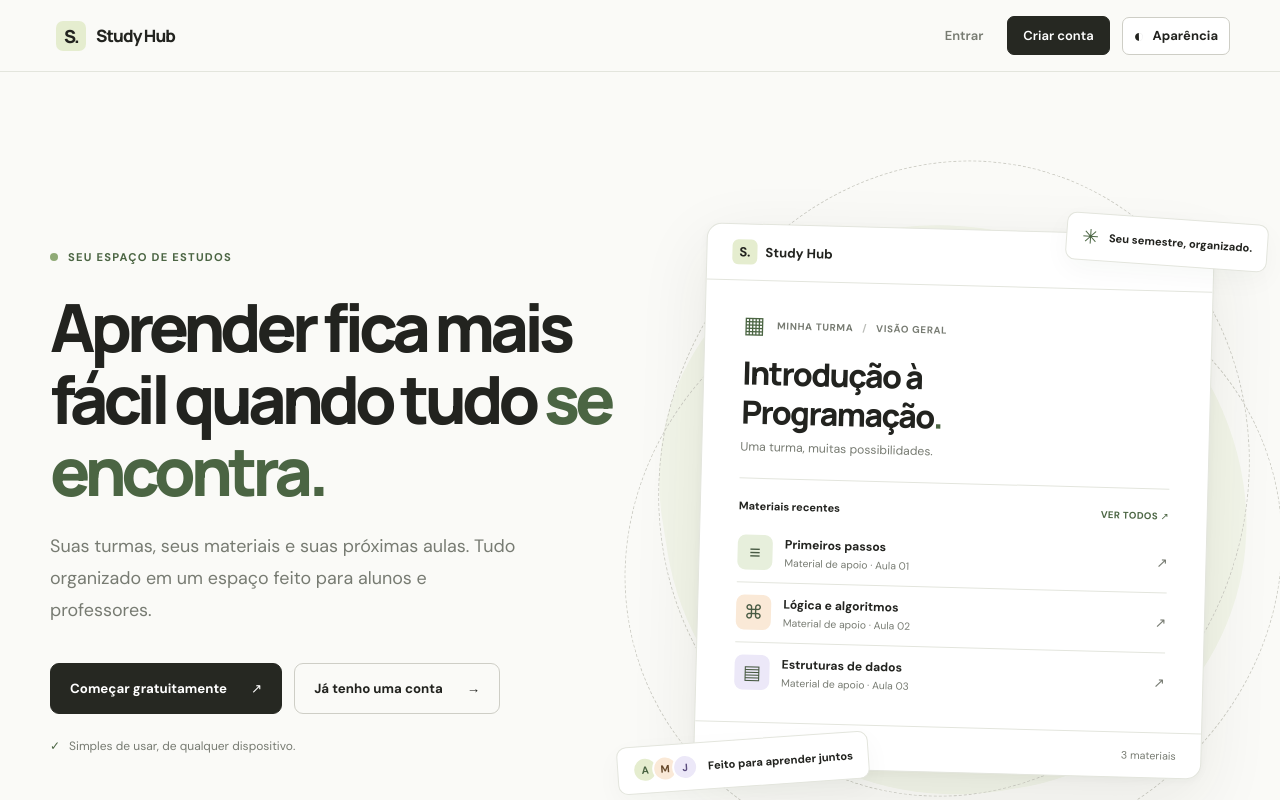
Study Hub › entra, carrega as turmas do aluno e abre uma turma
The image size is (1280, 800).
Click the button with class "outline" at (397, 688), box [294,663,500,714]
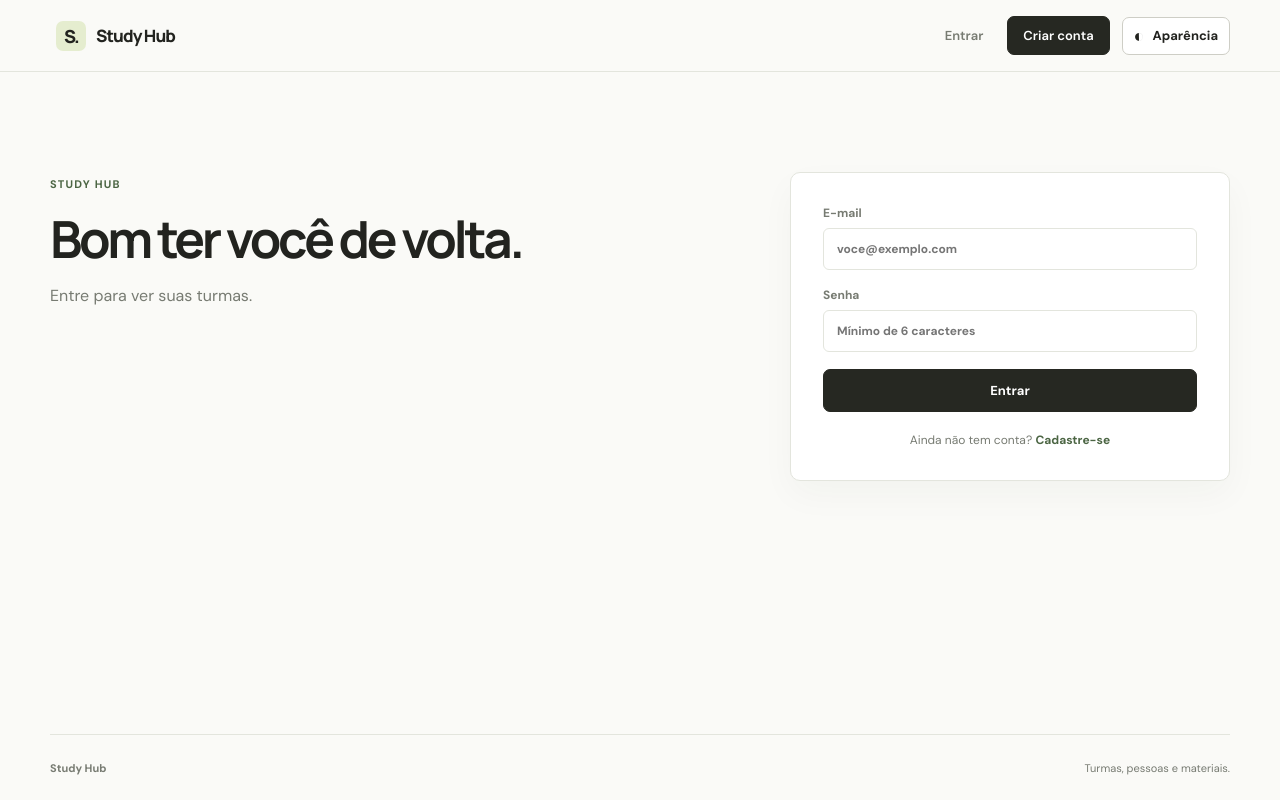
Type "aluno.demo@onlystudent.test" into the field labelled "E-mail" at (1010, 249), box [823,228,1197,270]
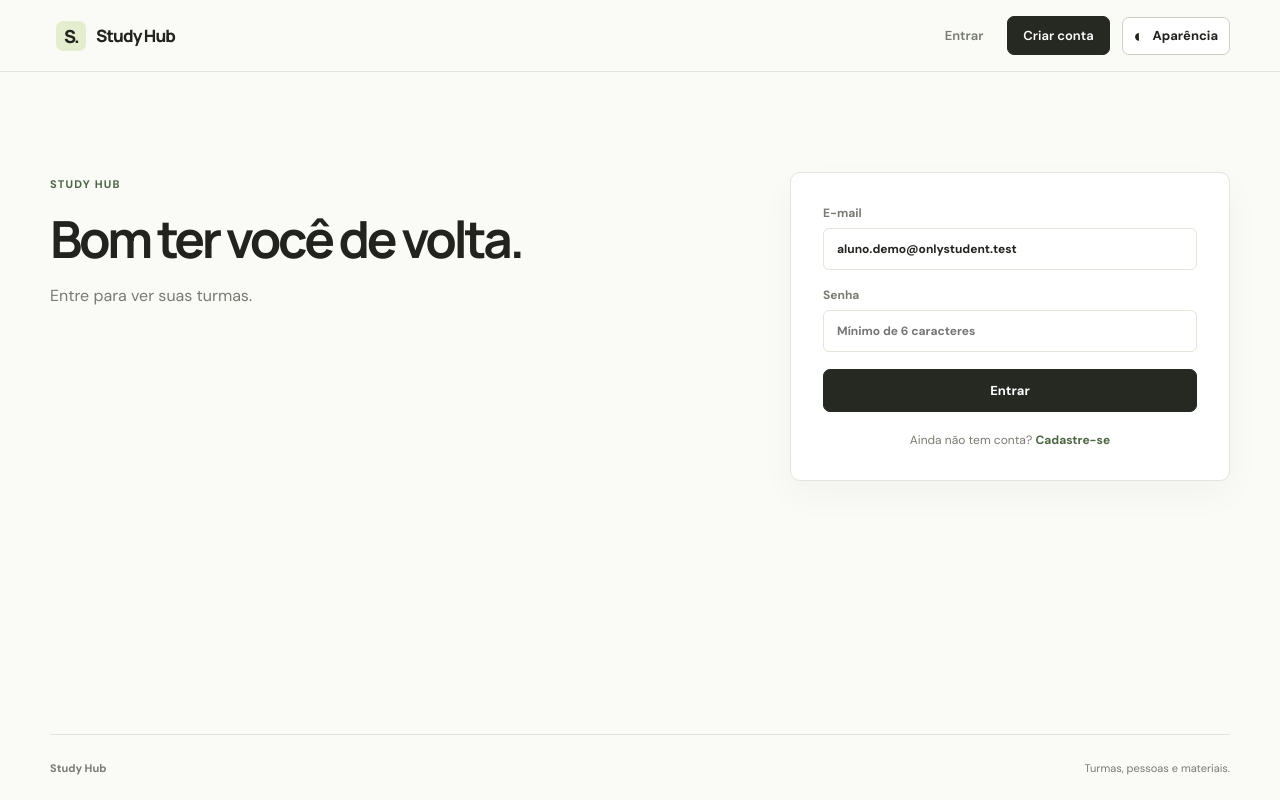
Type "OnlyStudent2026!" into the password field labelled "Senha" at (1010, 331), box [823,310,1197,352]
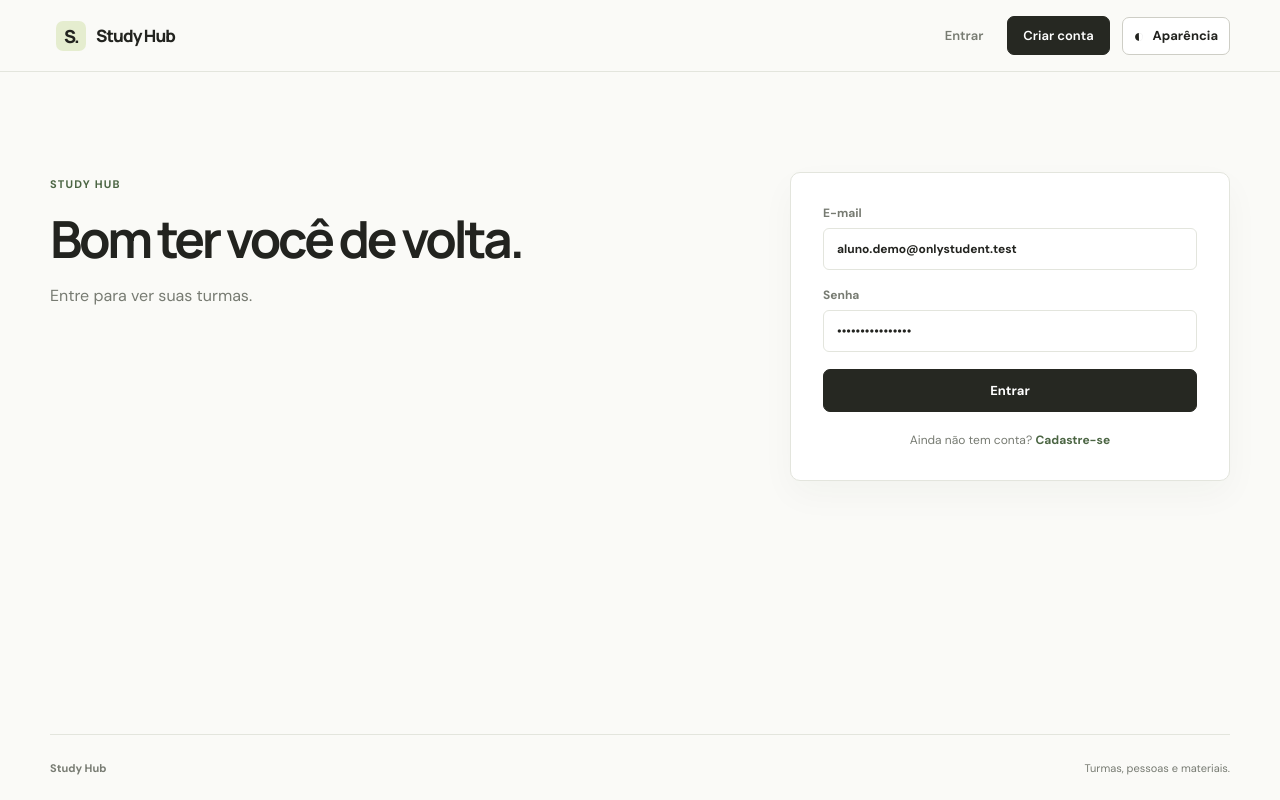
Submit the form, box [790,172,1230,481]
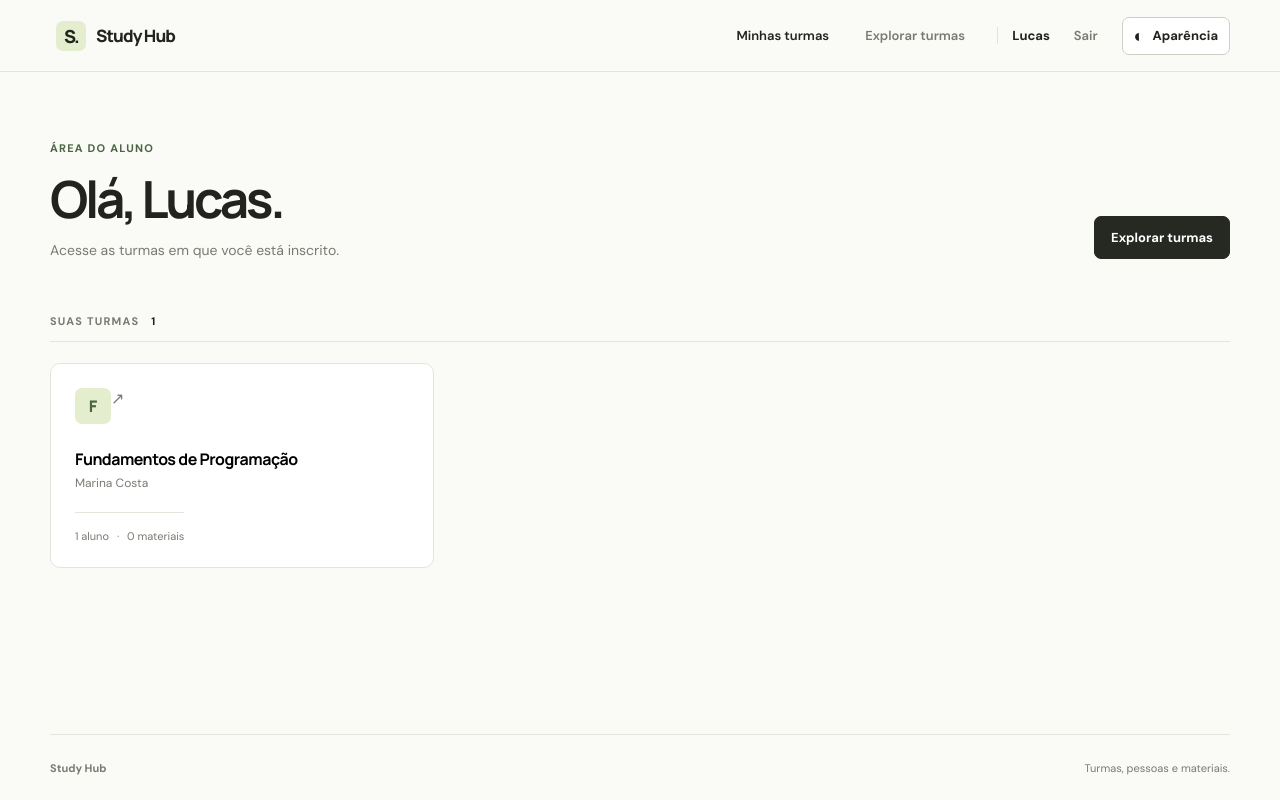
Check: the text "Fundamentos de Programação" is shown, box [75,448,298,470]
Click the button with class "class-card" at (242, 465), box [50,363,434,568]
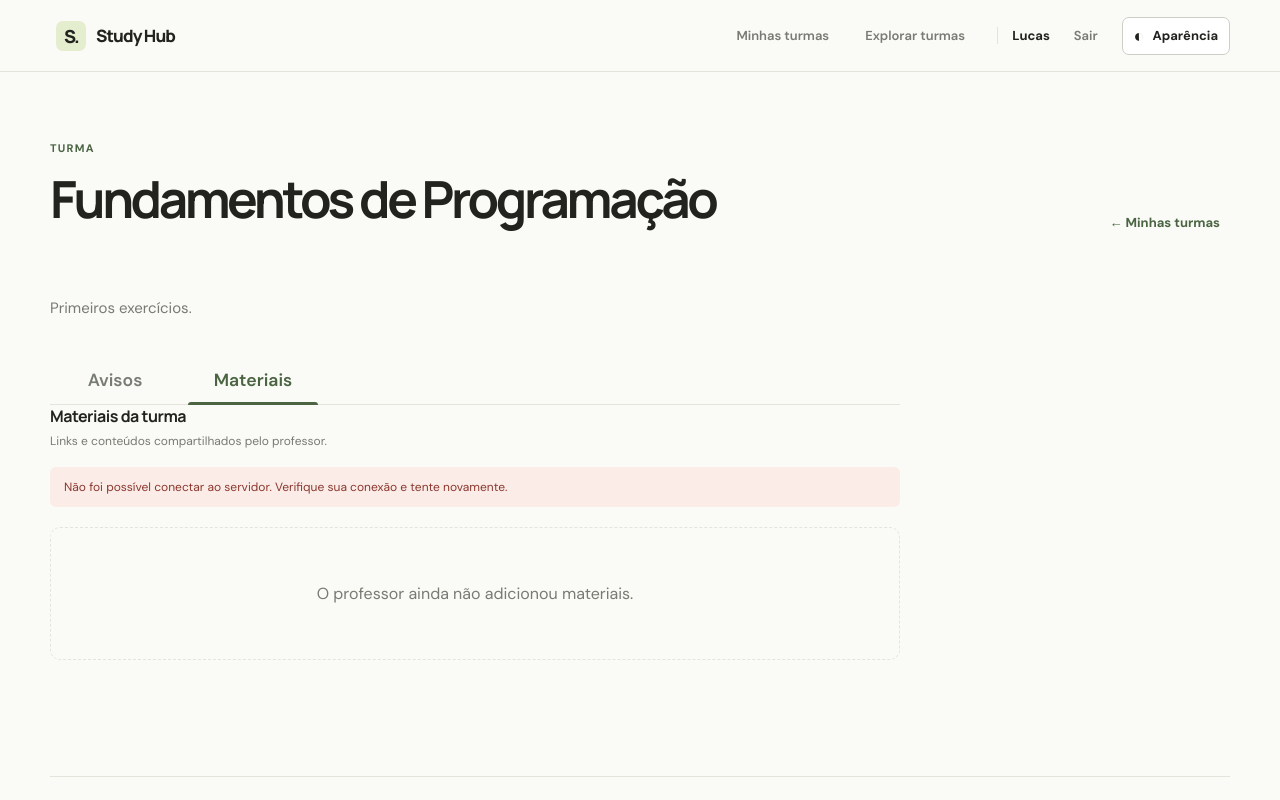
Check: the text "Primeiros exercícios." is shown, box [50,298,192,318]
